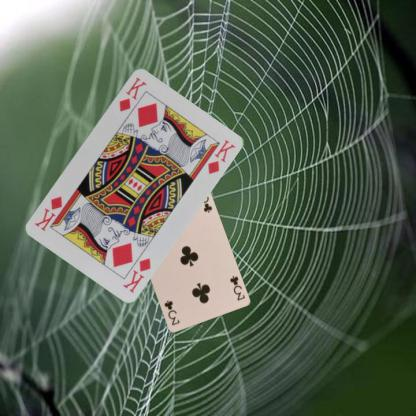3c: (227, 272, 246, 302)
Kd: (116, 74, 148, 113), (120, 255, 152, 294)
